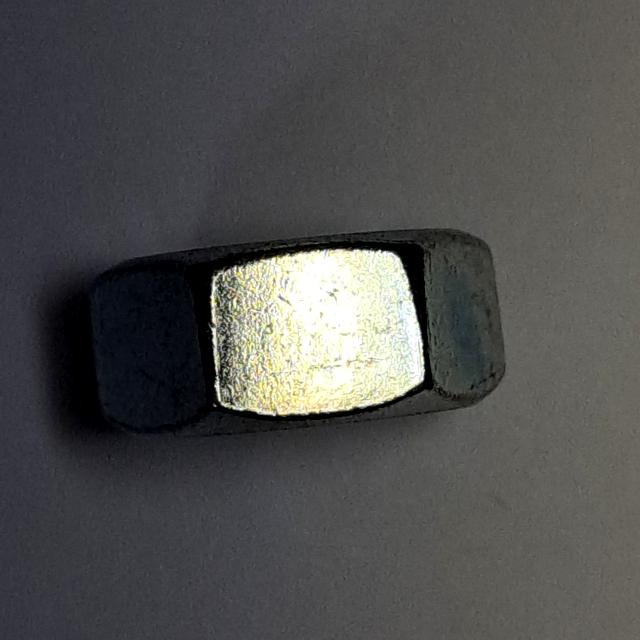Side_Excellent: (74, 216, 519, 454)
